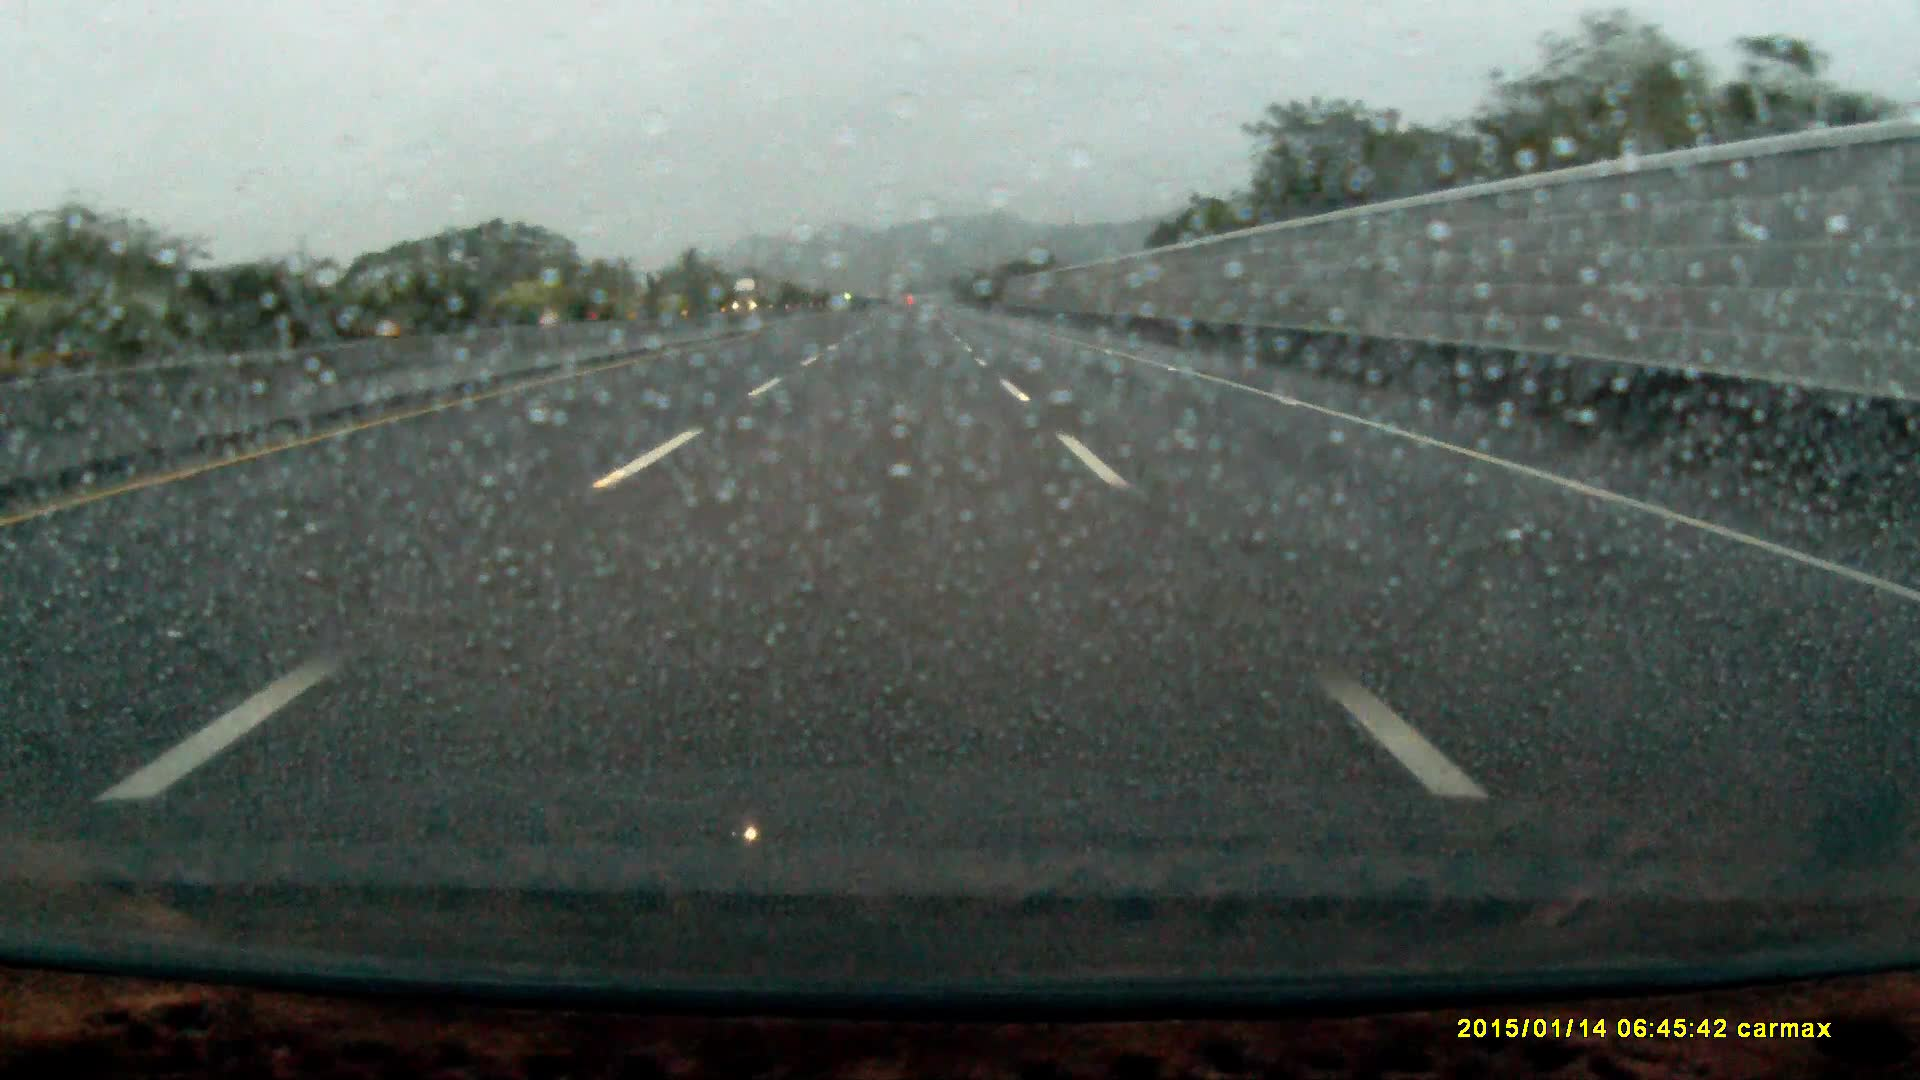vehicle: (732, 280, 767, 314)
